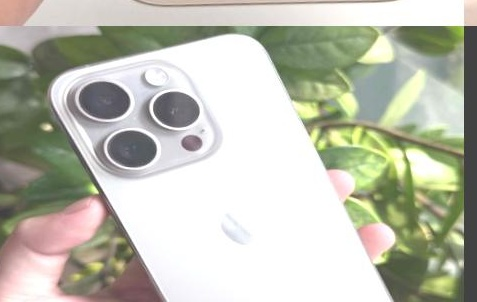scratch: (131, 113, 140, 122)
